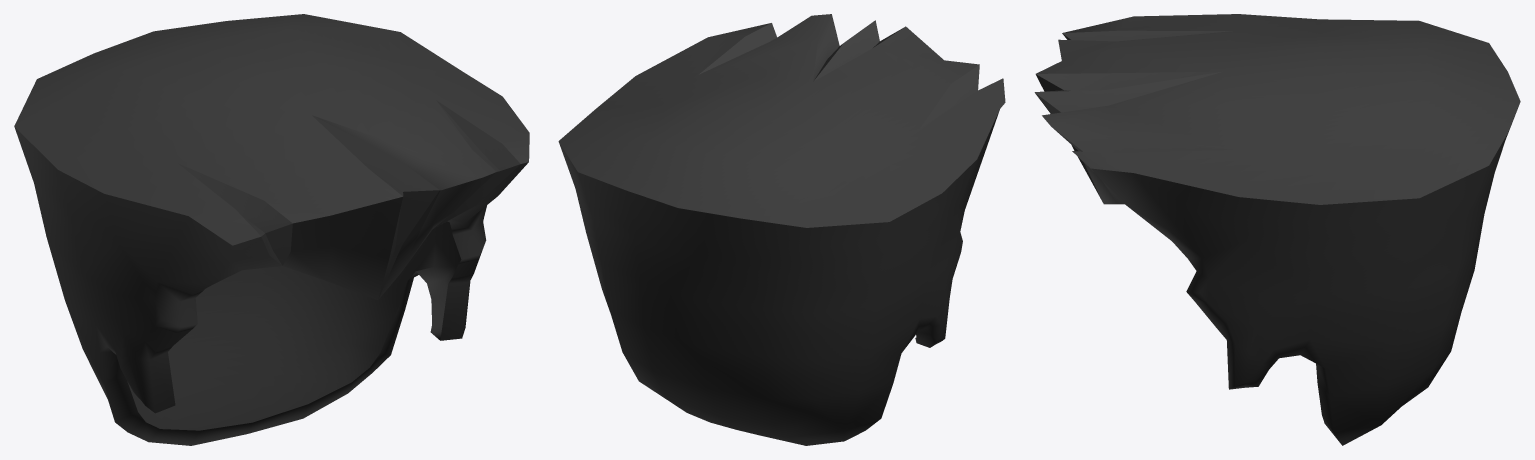
File: Hair_Black_4.fbx
The picture shows the model from 3 angles, left to right: view 1: azimuth 30°, elevation 25°; view 2: azimuth 150°, elevation 25°; view 3: azimuth 270°, elevation 25°; orthographic projection. The views are drawn at different scales.
Parts seen in each view (by area): view 1: Hair_Black_4; view 2: Hair_Black_4; view 3: Hair_Black_4.
Part boxes in pixels (x1,y1,x2,y2): Hair_Black_4: (14, 14, 529, 445); Hair_Black_4: (558, 14, 1005, 445); Hair_Black_4: (1034, 14, 1520, 445).
Size of the model in its own units: 62.29 by 53.97 by 68.97.
